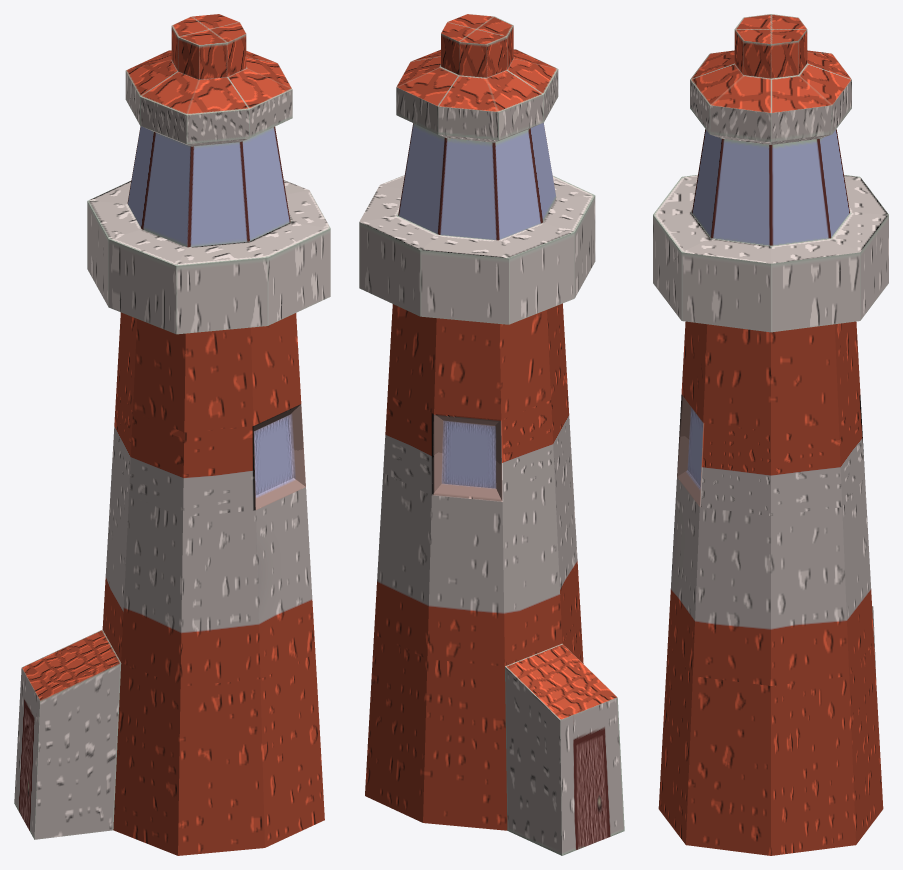
File: lighthouse.glb
3 renders of one model, left to right at view 1: azimuth 30°, elevation 25°; view 2: azimuth 150°, elevation 25°; view 3: azimuth 270°, elevation 25°, orthographic. The views are drawn at different scales.
Visible parts, largest first — view 1: Cube; view 2: Cube; view 3: Cube.
Part boxes in pixels (<box>): Cube: <box>14,14,330,855</box>; Cube: <box>359,14,624,855</box>; Cube: <box>653,14,888,855</box>.
Size of the model in its own units: 3.59 by 10.13 by 2.77.
1 material, 1 textured.
